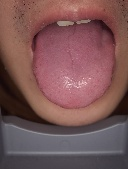tongue: (30, 31, 117, 110)
